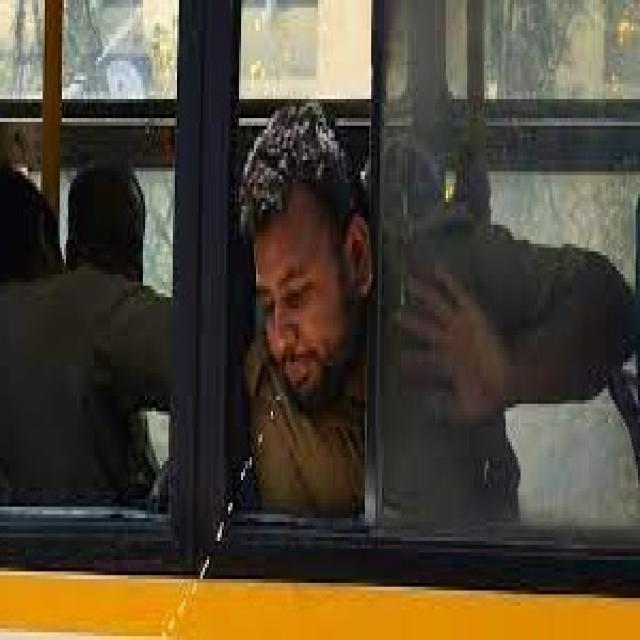Spitting: (206, 106, 376, 540)
